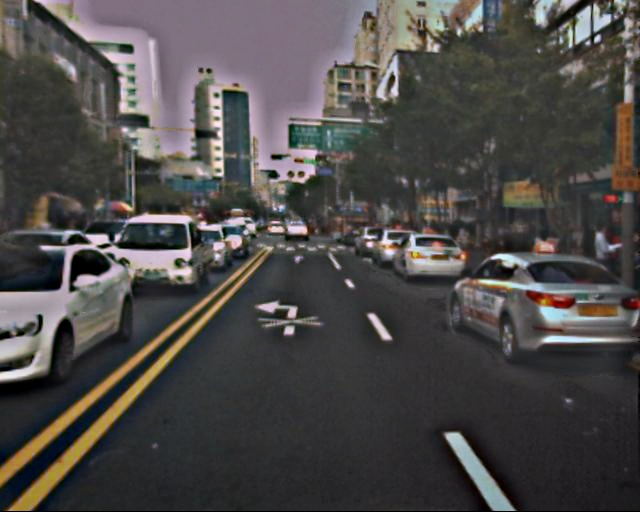person: (586, 222, 617, 298)
